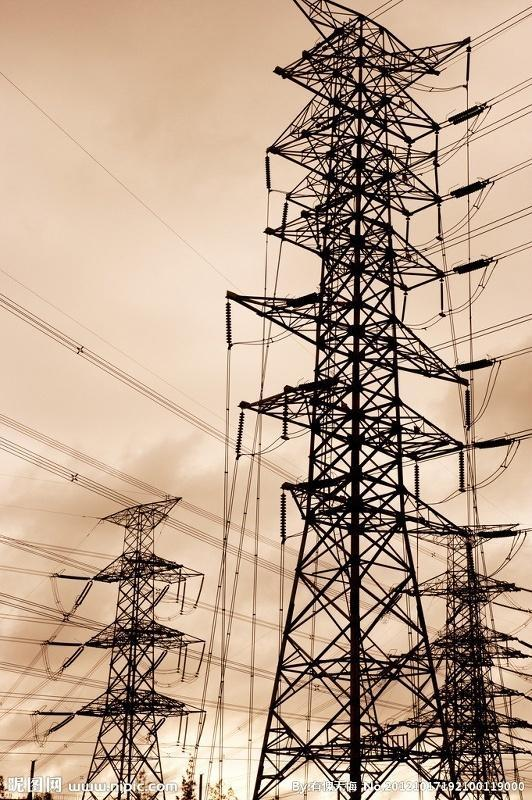power_tower: (227, 1, 523, 800), (35, 496, 206, 800), (399, 521, 532, 800)
